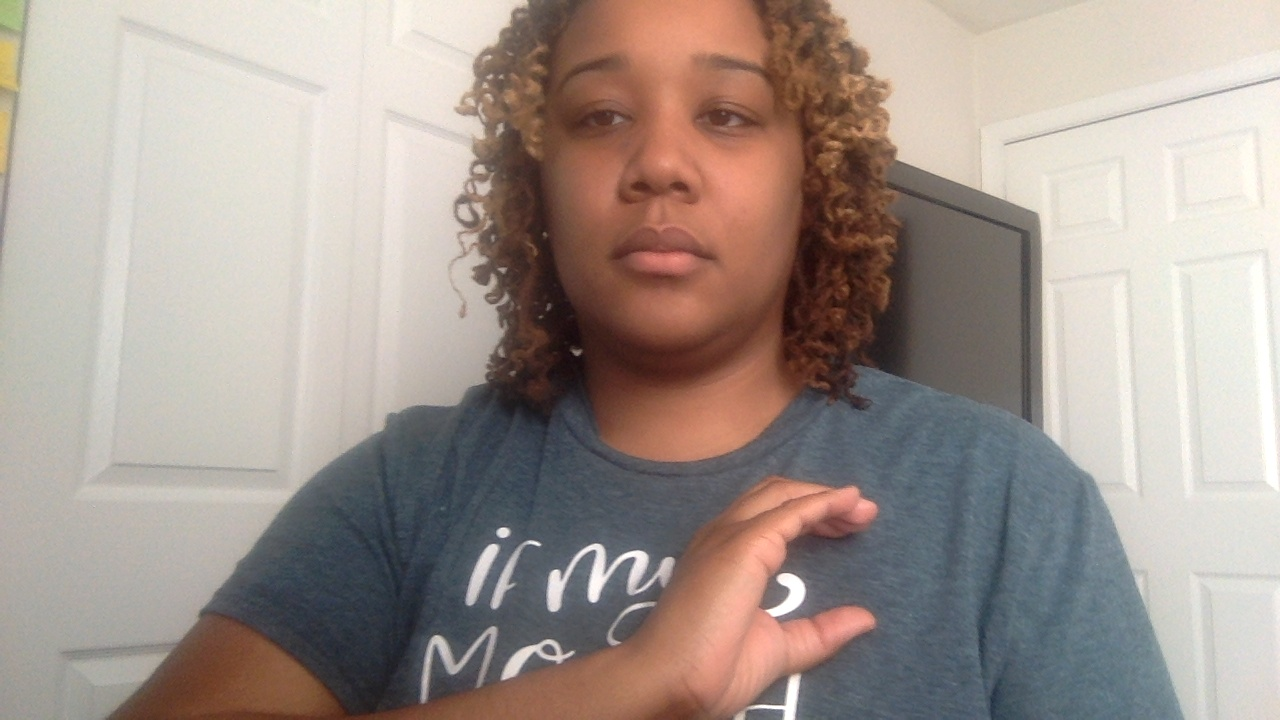police: (486, 381, 933, 720)
